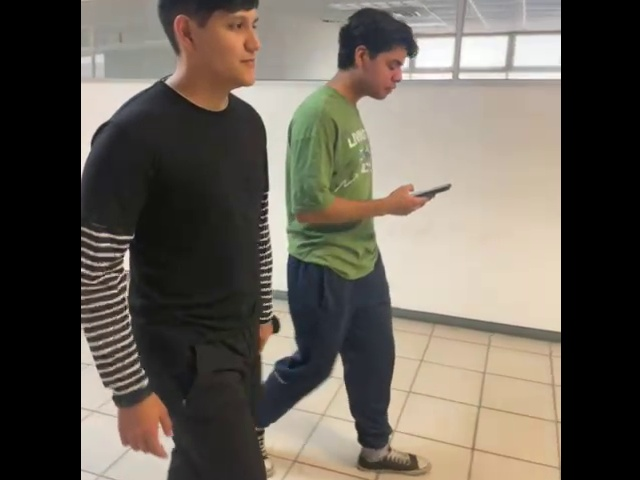mixto2: (405, 175, 454, 203)
